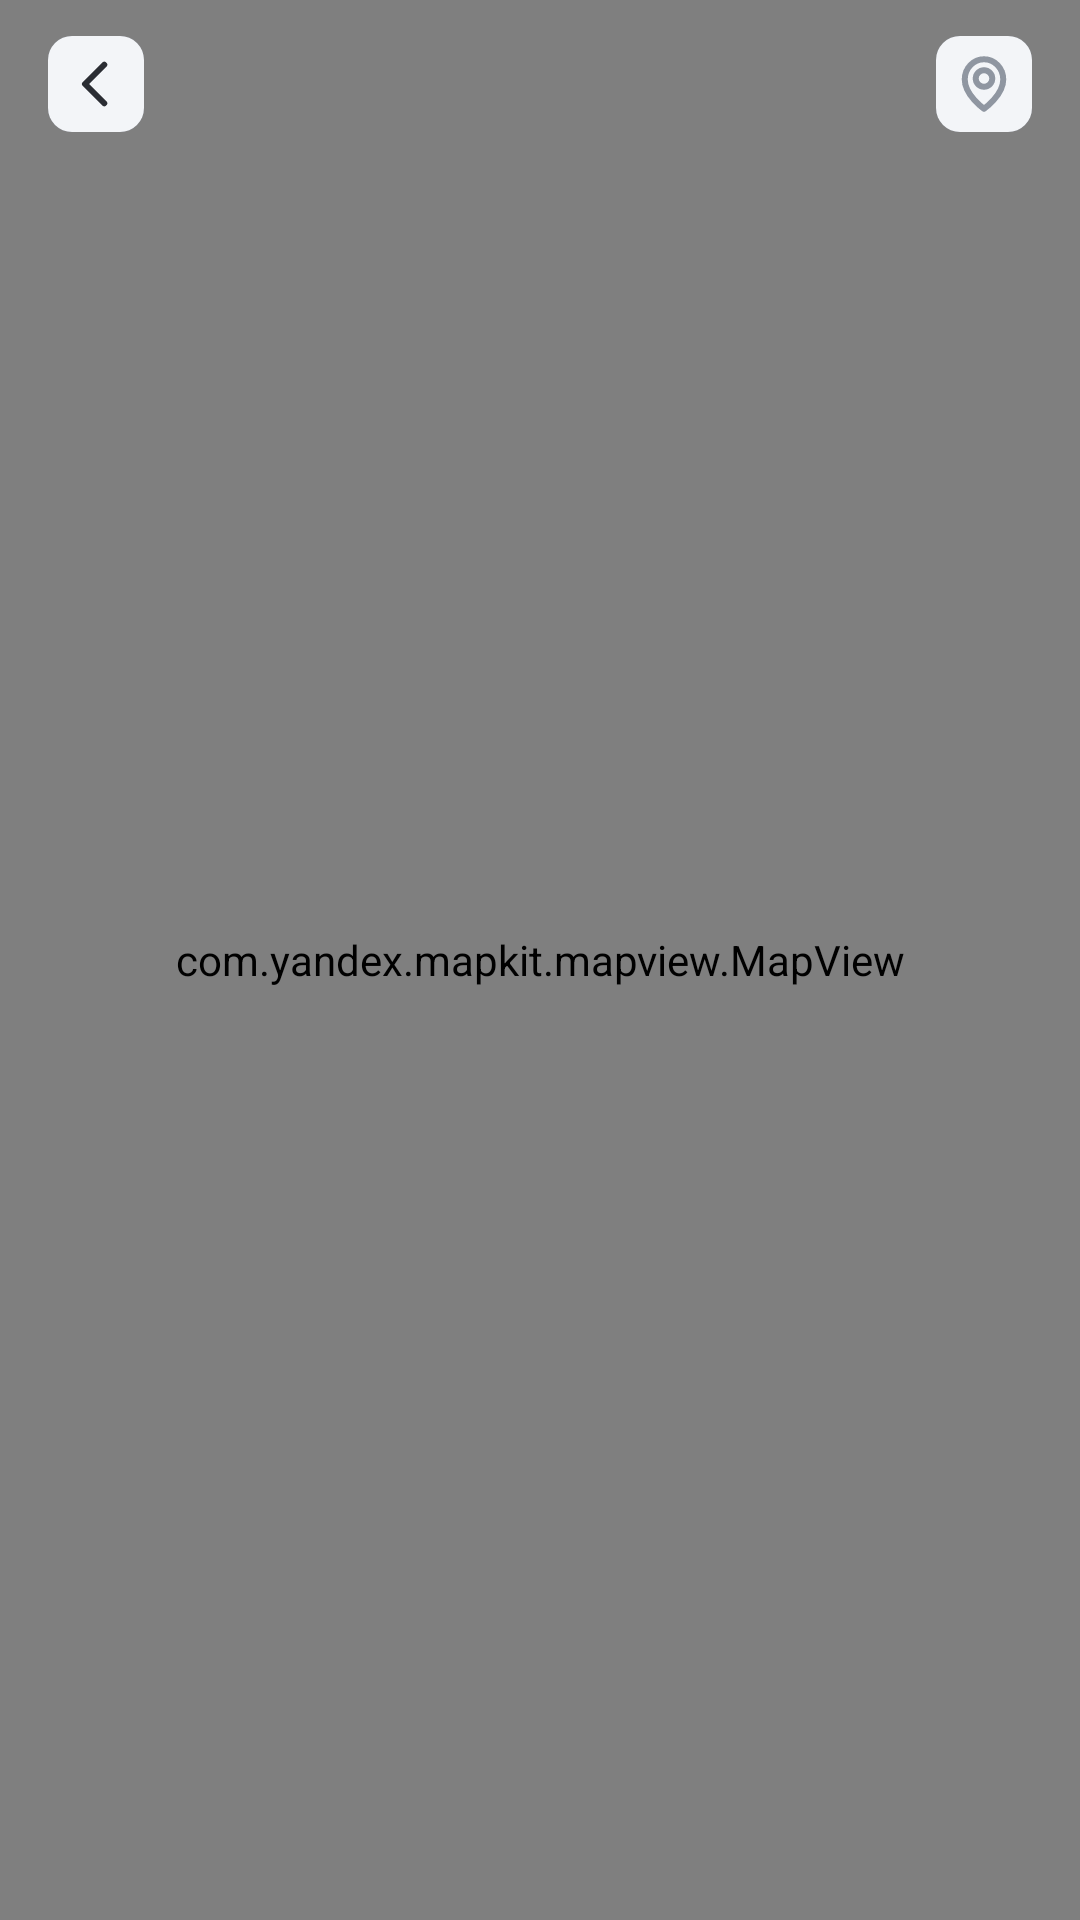

Screen size 1080*1920. Icon name, then its center in pixels as [x,y]:
chevron left: [96,84]
location: [984,84]
